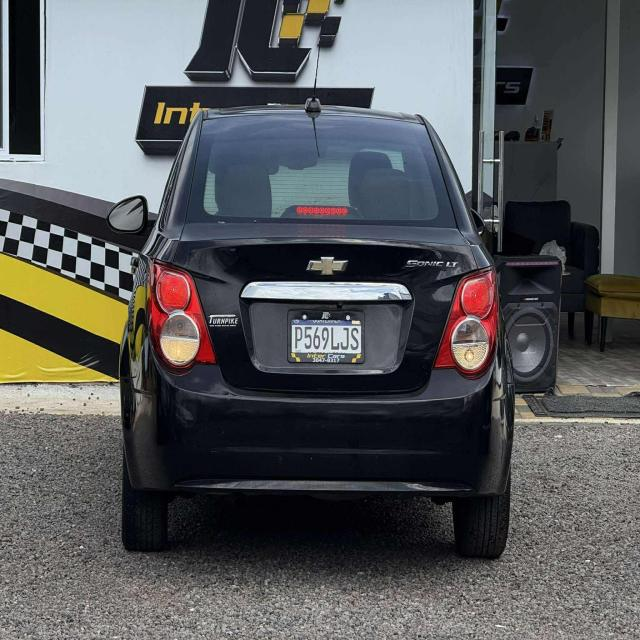Placas: (280, 306, 372, 372)
